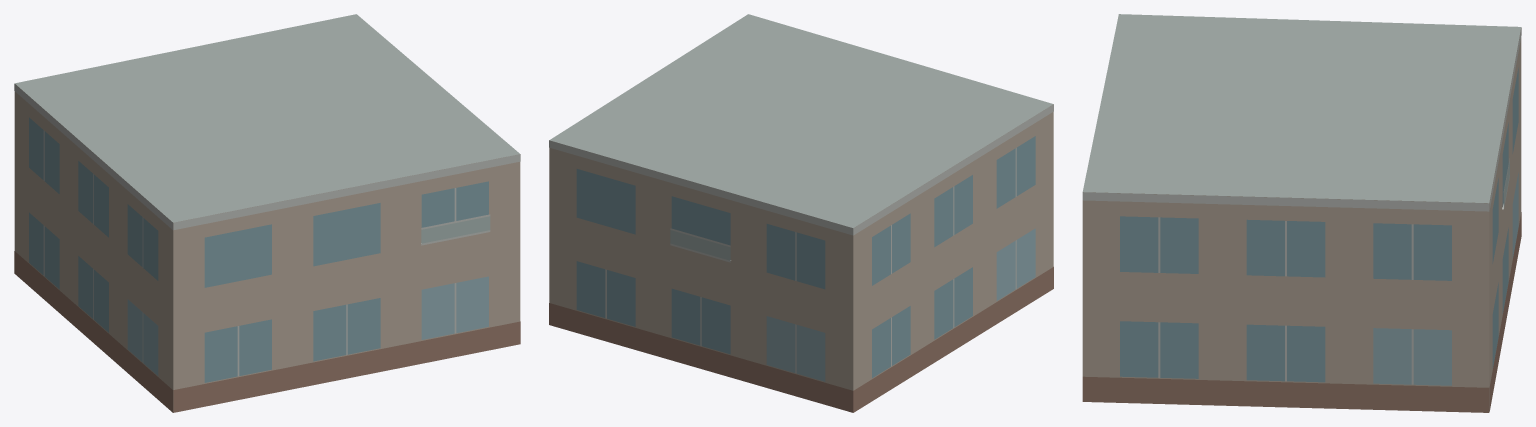
Rendered from survey-upis-32914663.glb.
The picture shows the model from 3 angles, left to right: view 1: azimuth 30°, elevation 25°; view 2: azimuth 150°, elevation 25°; view 3: azimuth 270°, elevation 25°; orthographic projection. The views are drawn at different scales.
Visible parts, largest first — view 1: survey-upis-32914663.tmp; view 2: survey-upis-32914663.tmp; view 3: survey-upis-32914663.tmp.
Part boxes in pixels (<box>): survey-upis-32914663.tmp: <box>14,14,520,412</box>; survey-upis-32914663.tmp: <box>549,14,1053,412</box>; survey-upis-32914663.tmp: <box>1082,14,1521,412</box>.
Bounding box in the file's own units: 11.81 × 6.1 × 11.58.
